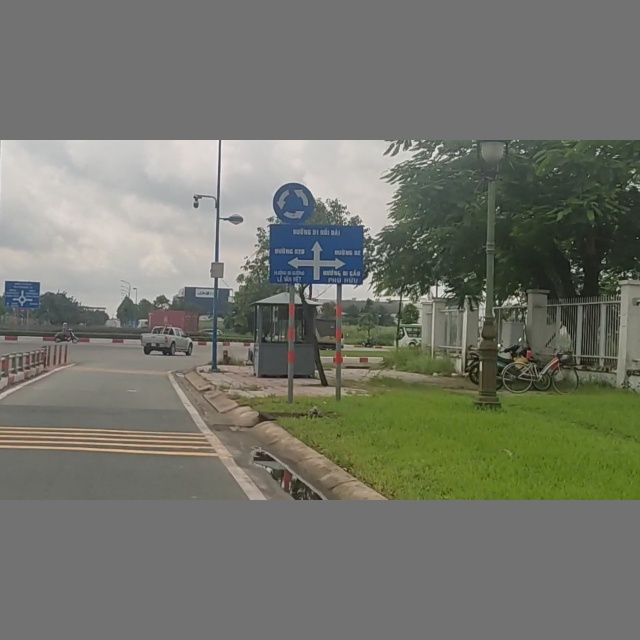R.303: (271, 181, 315, 225)
